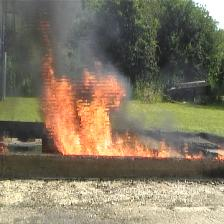fire: (40, 20, 170, 158), (184, 143, 203, 159)
